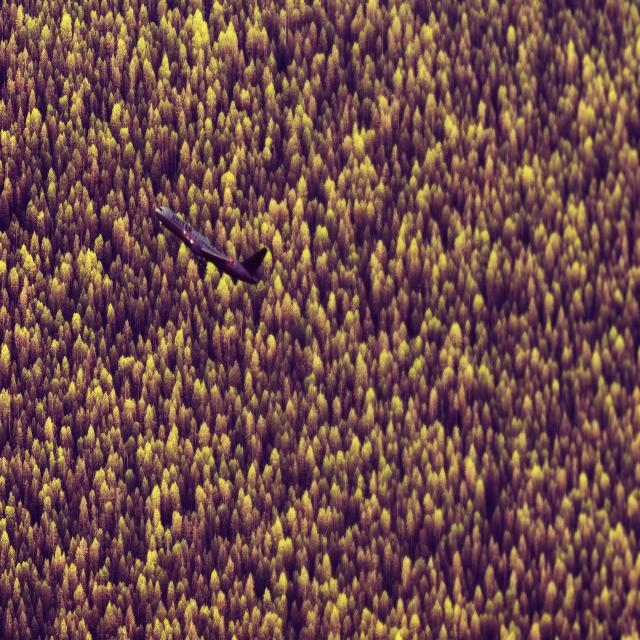airplane: (154, 204, 268, 286)
